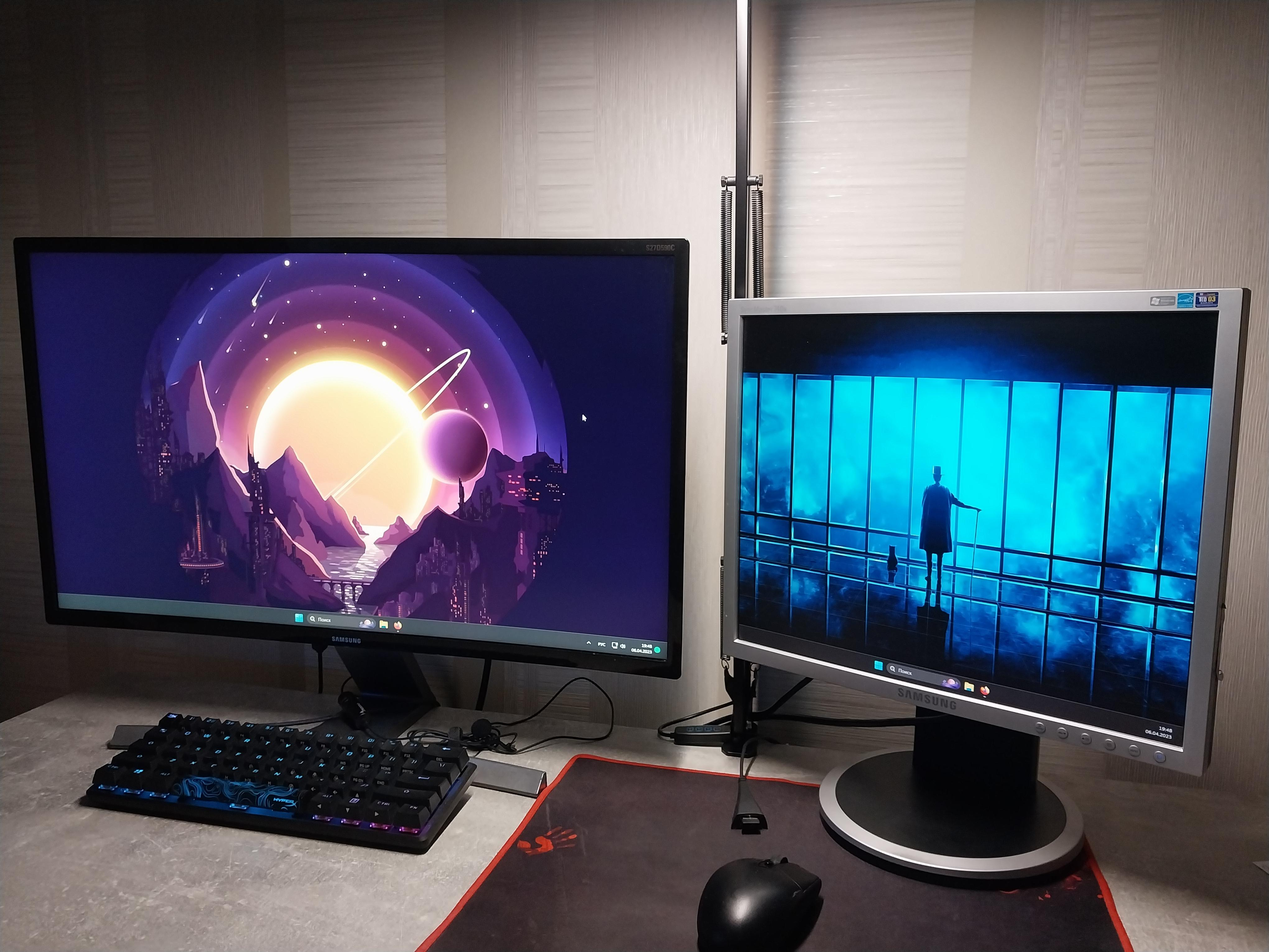monitor: (2, 227, 697, 678), (712, 280, 1257, 782)
